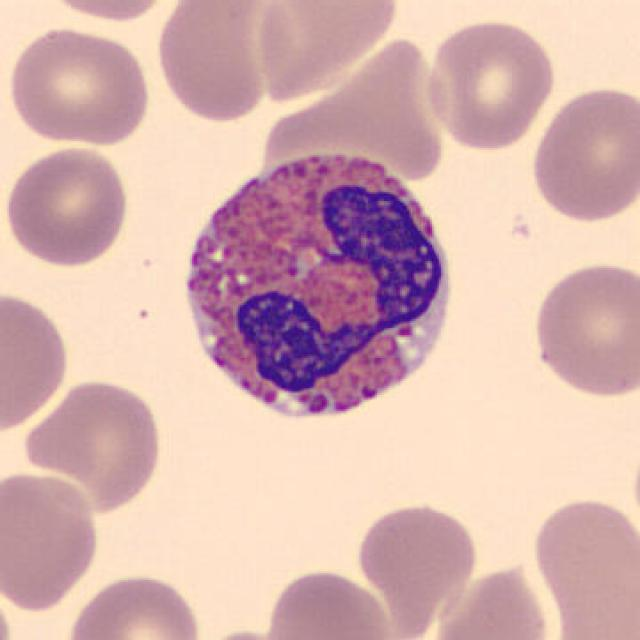Nuclei: (238, 192, 441, 387)
